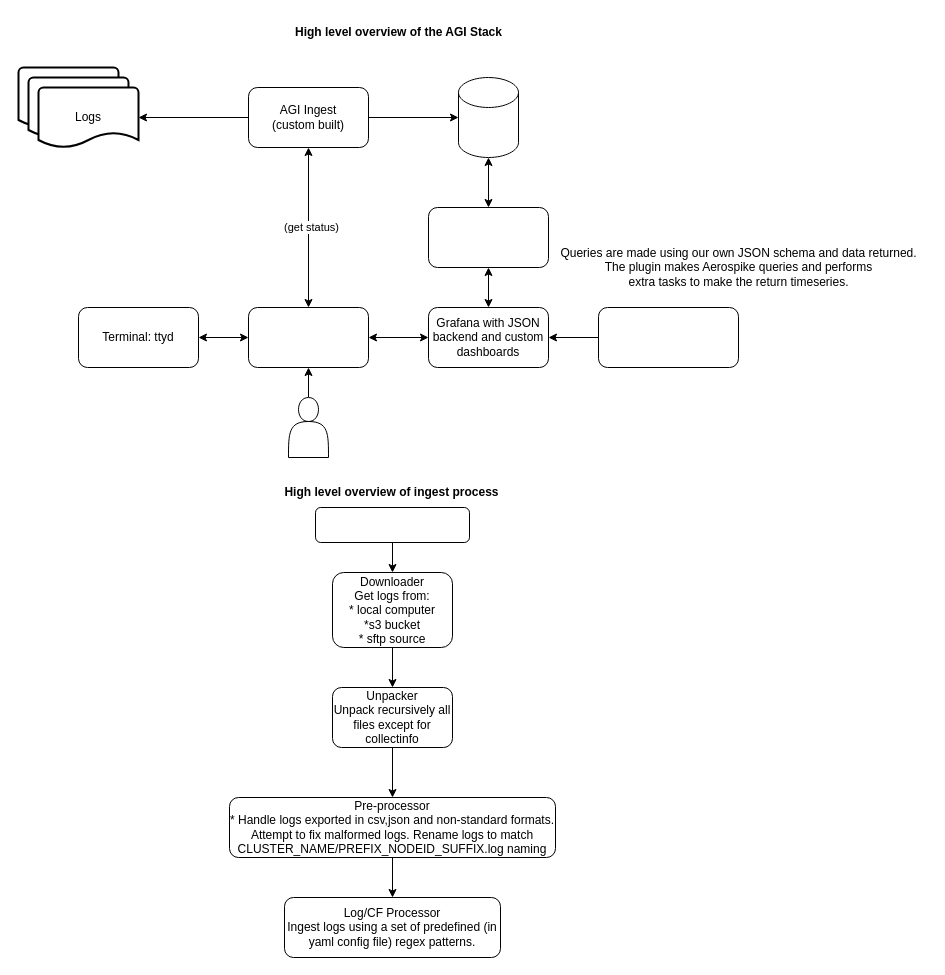
Some shapes in this 945 by 975 pixel diagram are drawn without their labels. Each missing label, with the box of its shape:
Aerospike: (458, 76, 518, 158)
Aerospike-Grafana JSON plugin (custom built): (428, 206, 548, 268)
AGI Proxy * Terminal access * Grafana * Ingest Status: (248, 306, 368, 368)
Grafana-Helper (custom built) Set grafana settings and import dashboards: (598, 306, 738, 368)
Init: (314, 506, 470, 542)
